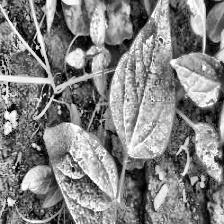ALS: (109, 0, 171, 162), (43, 124, 124, 224)
